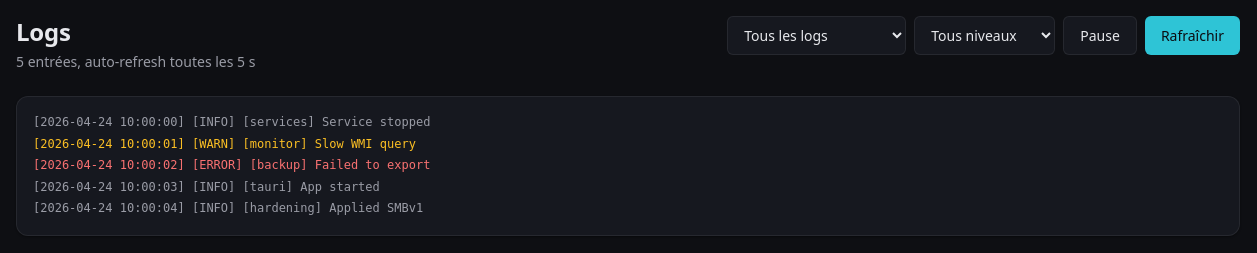
Test: LogsPage › actions scope filters out non-action categories
Check: the text "[2026-04-24 10:00:00] [INFO] [services] Service stopped" is shown, box x1=33 y1=115 x2=430 y2=129
Check: the text "[2026-04-24 10:00:01] [WARN] [monitor] Slow WMI query" is shown, box x1=33 y1=136 x2=416 y2=150
Select "Actions uniquement" in the dropdown named "Portée des logs" at (817, 36), box x1=727 y1=16 x2=906 y2=55
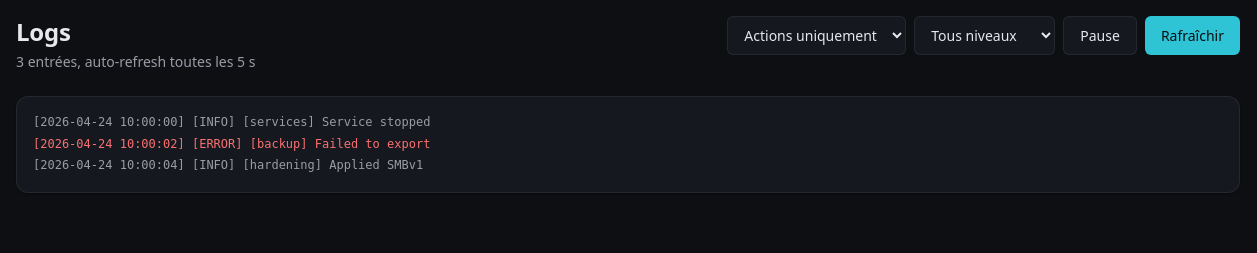
Check: the text "[2026-04-24 10:00:00] [INFO] [services] Service stopped" is shown, box x1=33 y1=115 x2=430 y2=129
Check: the text "Slow WMI query" is gone
Check: the text "App started" is gone
